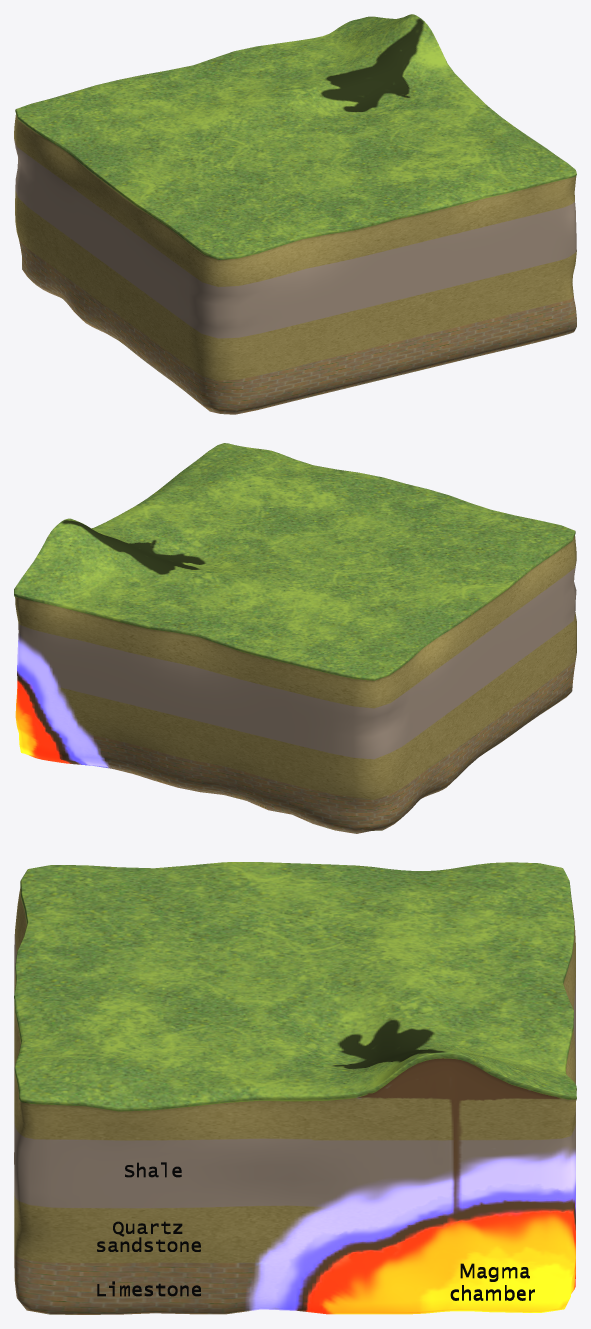
Rendered from contact_metamorphism.glb.
3 renders of one model, top to bottom at view 1: azimuth 30°, elevation 25°; view 2: azimuth 150°, elevation 25°; view 3: azimuth 270°, elevation 25°, orthographic. The views are drawn at different scales.
Parts seen in each view (by area): view 1: pCube1; view 2: pCube1; view 3: pCube1, typeMesh2, bsce2, bsce.
Part boxes in pixels (x1=…): pCube1: x1=14, y1=14, x2=576, y2=414; pCube1: x1=14, y1=443, x2=576, y2=833; pCube1: x1=14, y1=862, x2=576, y2=1314; typeMesh2: x1=450, y1=1263, x2=534, y2=1300; bsce2: x1=97, y1=1221, x2=200, y2=1251; bsce: x1=97, y1=1281, x2=200, y2=1296.
Size of the model in its own units: 0.1389 by 0.0718 by 0.1381.
2 materials, 1 textured.
